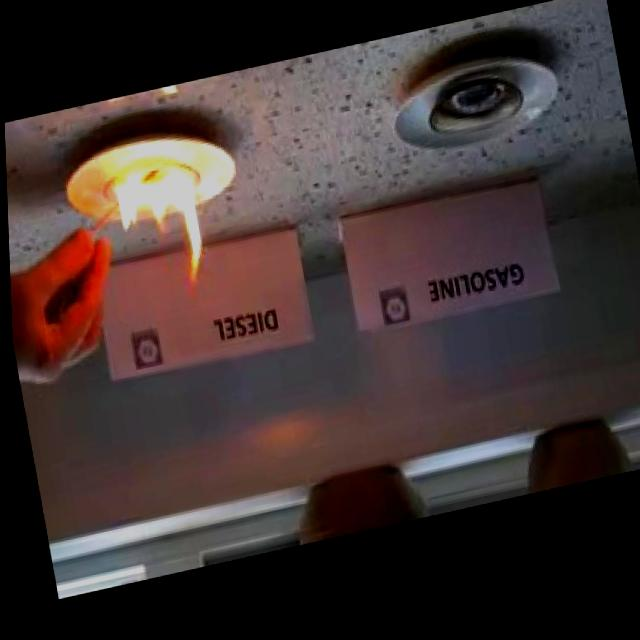helmet: (103, 156, 213, 312)
